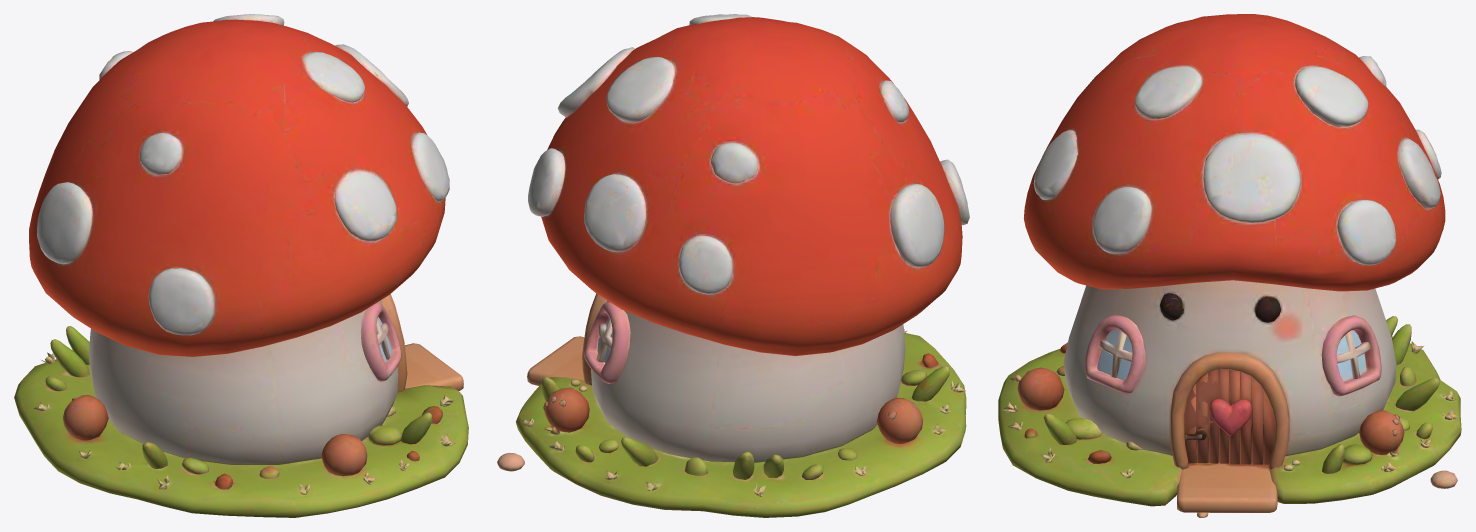
Rendered from mushroom-cottage.glb.
3 views of the same model, side by side, from view 1: azimuth 30°, elevation 25°; view 2: azimuth 150°, elevation 25°; view 3: azimuth 270°, elevation 25° (orthographic).
Parts seen in each view (by area): view 1: tripo_node_d8203cf5-7199-4ef1-aee2-261f2d1e08c5; view 2: tripo_node_d8203cf5-7199-4ef1-aee2-261f2d1e08c5; view 3: tripo_node_d8203cf5-7199-4ef1-aee2-261f2d1e08c5.
Part boxes in pixels (<box>): tripo_node_d8203cf5-7199-4ef1-aee2-261f2d1e08c5: <box>14,14,468,517</box>; tripo_node_d8203cf5-7199-4ef1-aee2-261f2d1e08c5: <box>497,14,969,517</box>; tripo_node_d8203cf5-7199-4ef1-aee2-261f2d1e08c5: <box>998,14,1461,517</box>.
Bounding box in the file's own units: 0.9786 × 0.9277 × 0.998.
Materials: 1 (1 with a texture image).
